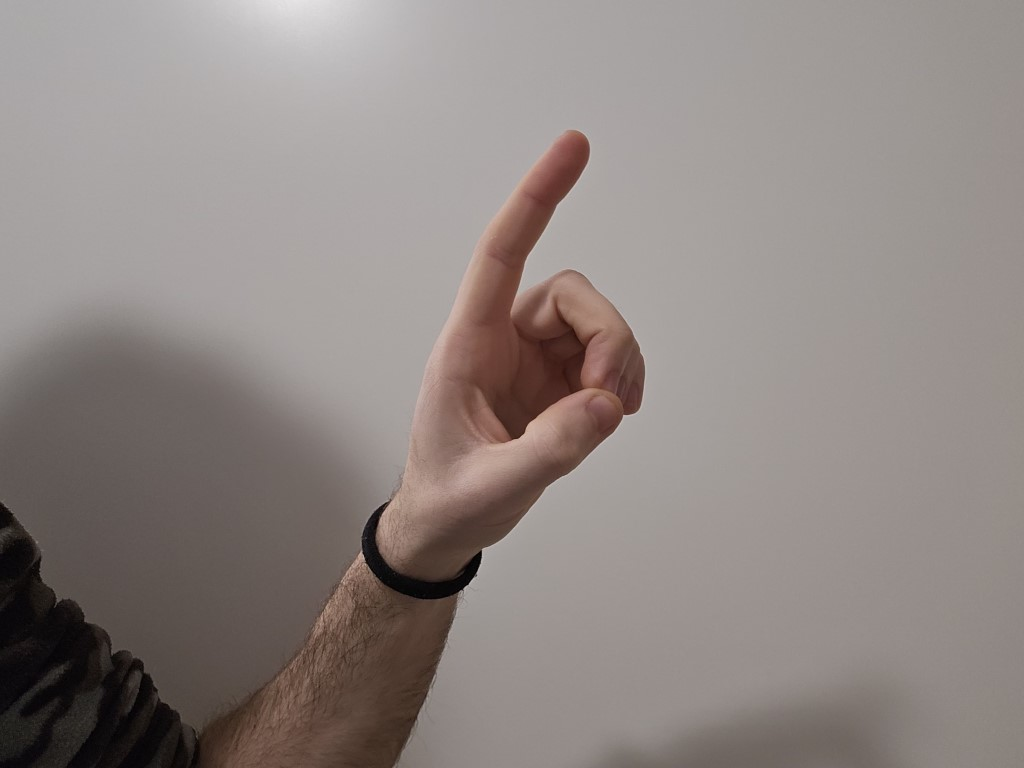d: (342, 123, 685, 560)
